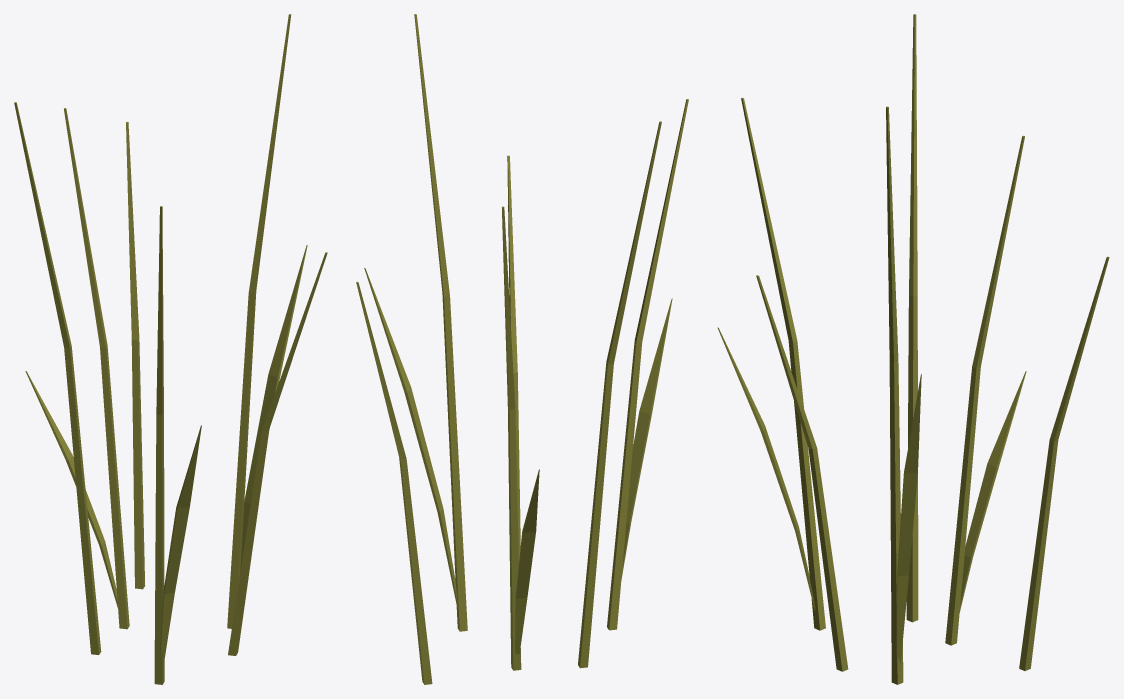
Rendered from plant_007a_reed.glb.
3 renders of one model, left to right at view 1: azimuth 30°, elevation 25°; view 2: azimuth 150°, elevation 25°; view 3: azimuth 270°, elevation 25°, orthographic.
Parts seen in each view (by area): view 1: plant_007a_reed__stems, plant_007a_reed__leaves; view 2: plant_007a_reed__stems, plant_007a_reed__leaves; view 3: plant_007a_reed__stems, plant_007a_reed__leaves.
Boxes of the visible parts, x1,y1,x2,y2 form: plant_007a_reed__stems: [14, 14, 327, 684]; plant_007a_reed__leaves: [25, 245, 307, 666]; plant_007a_reed__stems: [356, 14, 688, 684]; plant_007a_reed__leaves: [364, 268, 672, 654]; plant_007a_reed__stems: [741, 14, 1109, 684]; plant_007a_reed__leaves: [717, 327, 1026, 664].
Bounding box in the file's own units: 0.6984 × 1.36 × 0.8022.
